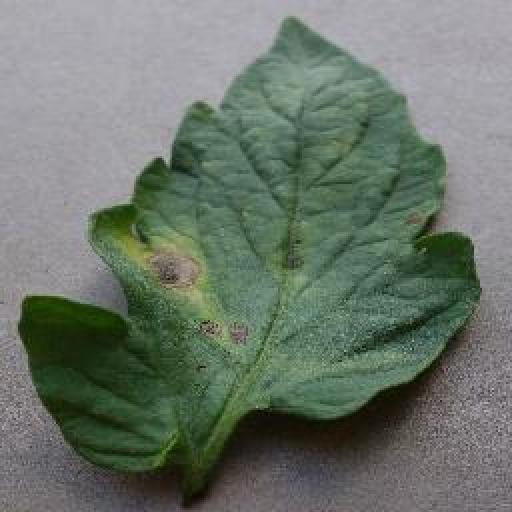disease_tomato: (19, 15, 482, 472)
